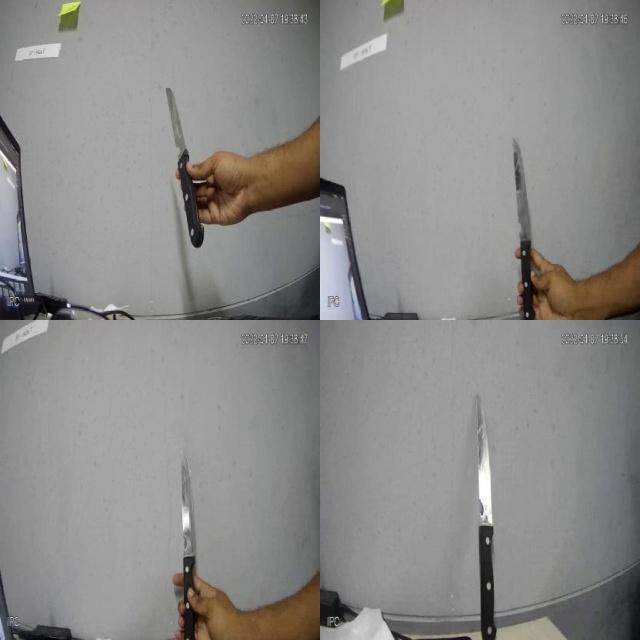-: (470, 387, 512, 639), (159, 82, 207, 252), (509, 131, 542, 319), (175, 442, 202, 639)
